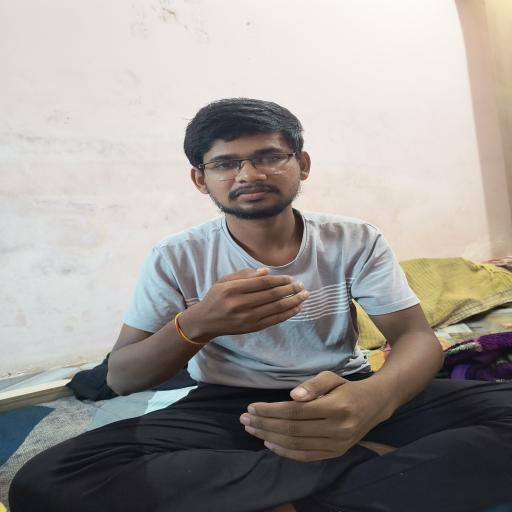Good: (171, 264, 395, 470)
